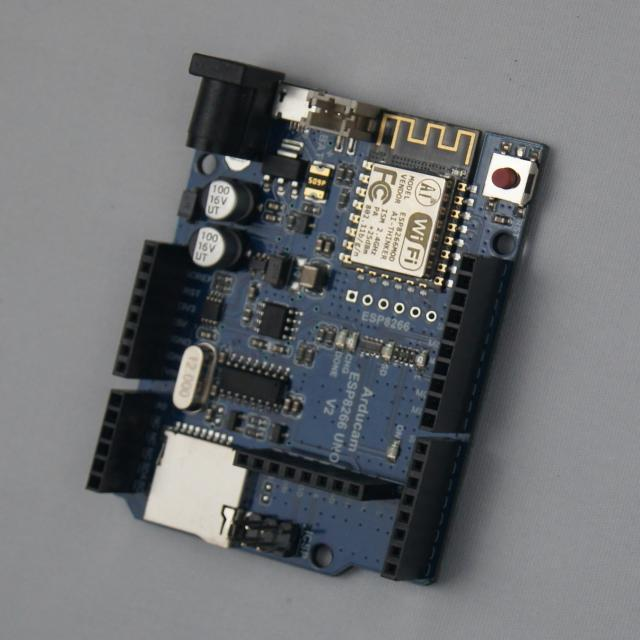Arduino Uno Camera Shield: (88, 55, 548, 583)
